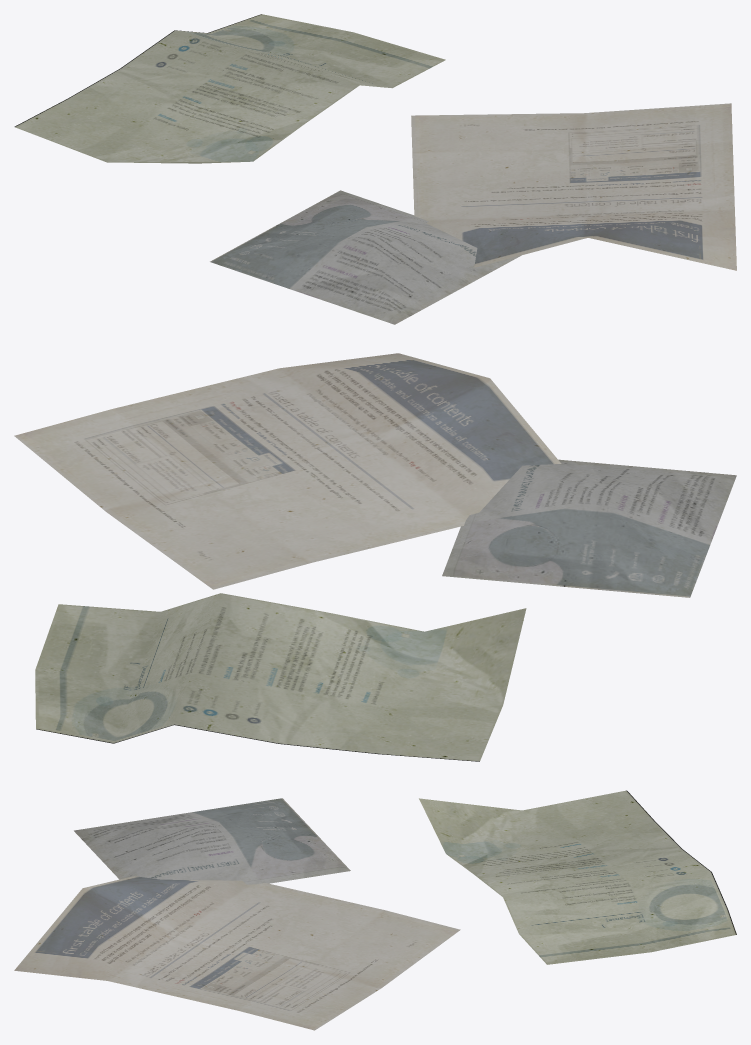
File: SM_Debris_Paper_Set2.fbx
3 renders of one model, top to bottom at view 1: azimuth 30°, elevation 25°; view 2: azimuth 150°, elevation 25°; view 3: azimuth 270°, elevation 25°, orthographic. The views are drawn at different scales.
Visible parts, largest first — view 1: SM_Debris_Paper_Set2_LOD0; view 2: SM_Debris_Paper_Set2_LOD0; view 3: SM_Debris_Paper_Set2_LOD0.
Part boxes in pixels (x1=…): SM_Debris_Paper_Set2_LOD0: x1=14, y1=14, x2=736, y2=324; SM_Debris_Paper_Set2_LOD0: x1=14, y1=353, x2=736, y2=761; SM_Debris_Paper_Set2_LOD0: x1=14, y1=790, x2=736, y2=1030.
Size of the model in its own units: 40.25 by 49 by 3.07.
1 material, 1 textured.
